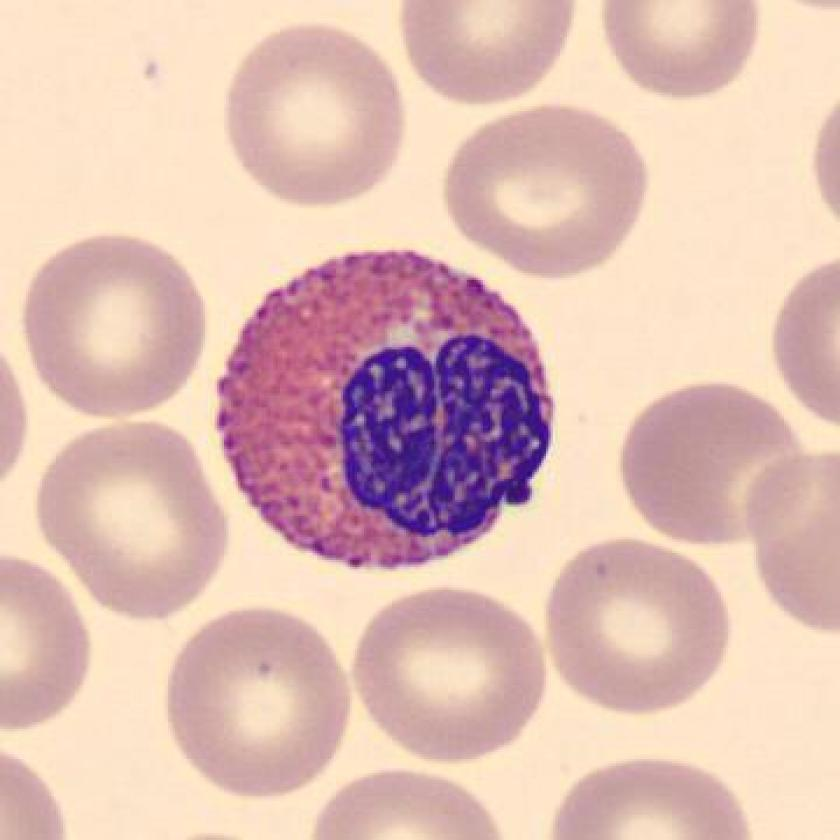eosinophil: (209, 239, 570, 584)
